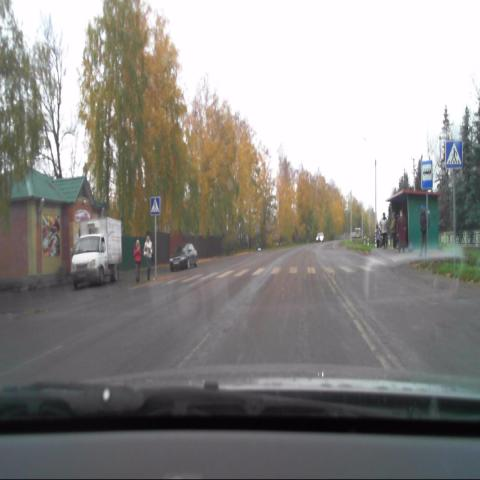5_16: (420, 162, 431, 191)
